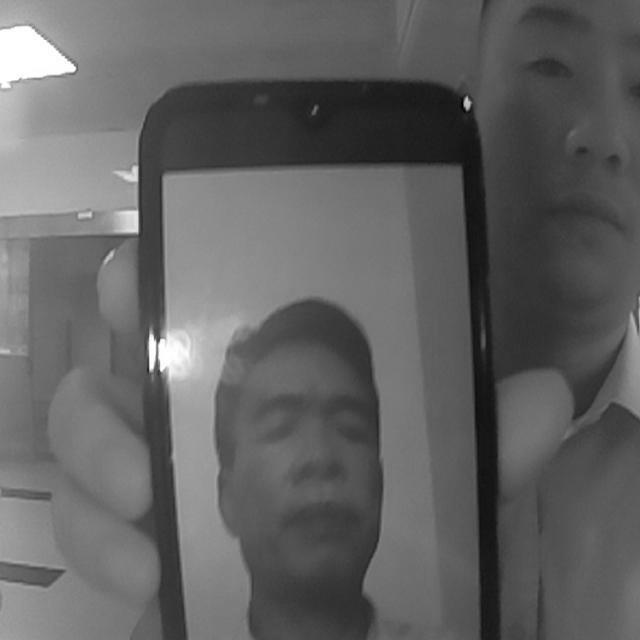fake: (135, 74, 506, 640)
